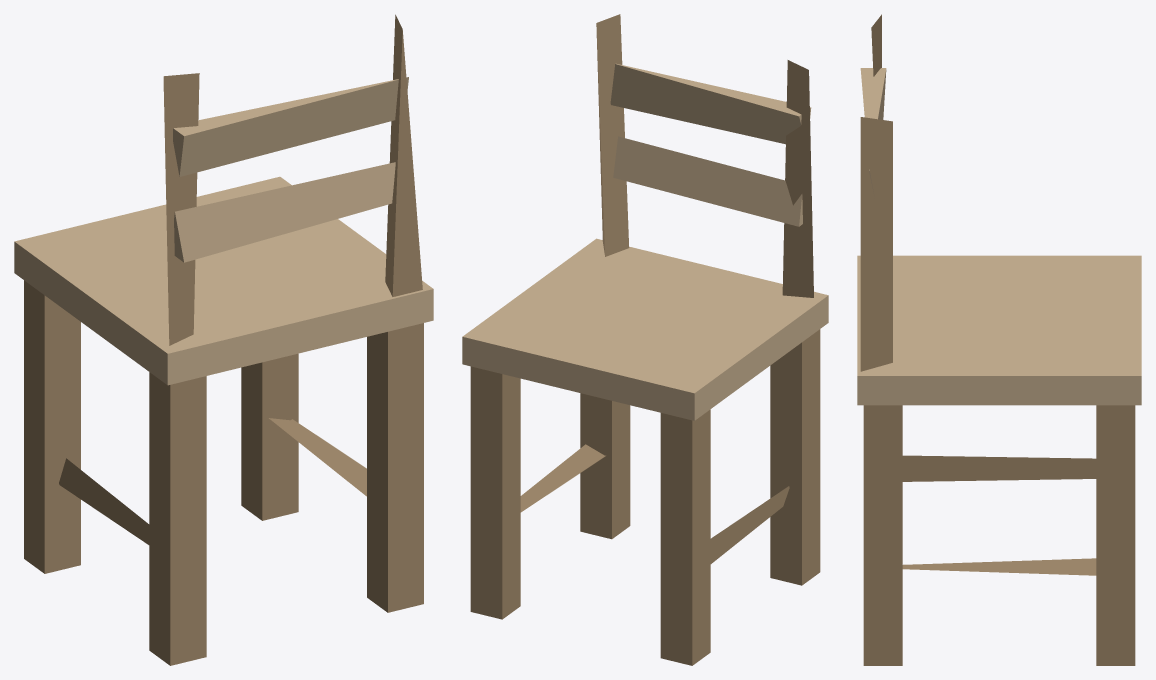
File: 18-Casas_silla_madera.glb
3 views of the same model, side by side, from view 1: azimuth 30°, elevation 25°; view 2: azimuth 150°, elevation 25°; view 3: azimuth 270°, elevation 25° (orthographic). The views are drawn at different scales.
Parts seen in each view (by area): view 1: SM_Silla_M_Mueble_Madera_Oscura, SM_Silla_M_Mueble_Madera_Clara; view 2: SM_Silla_M_Mueble_Madera_Oscura, SM_Silla_M_Mueble_Madera_Clara; view 3: SM_Silla_M_Mueble_Madera_Clara, SM_Silla_M_Mueble_Madera_Oscura.
Boxes of the visible parts, x1,y1,x2,y2 form: SM_Silla_M_Mueble_Madera_Oscura: (24,14,423,665); SM_Silla_M_Mueble_Madera_Clara: (14,77,433,385); SM_Silla_M_Mueble_Madera_Oscura: (470,14,820,665); SM_Silla_M_Mueble_Madera_Clara: (462,63,828,420); SM_Silla_M_Mueble_Madera_Clara: (857,68,1141,405); SM_Silla_M_Mueble_Madera_Oscura: (860,14,1135,665).
Bounding box in the file's own units: 0.44 × 0.92 × 0.44.
